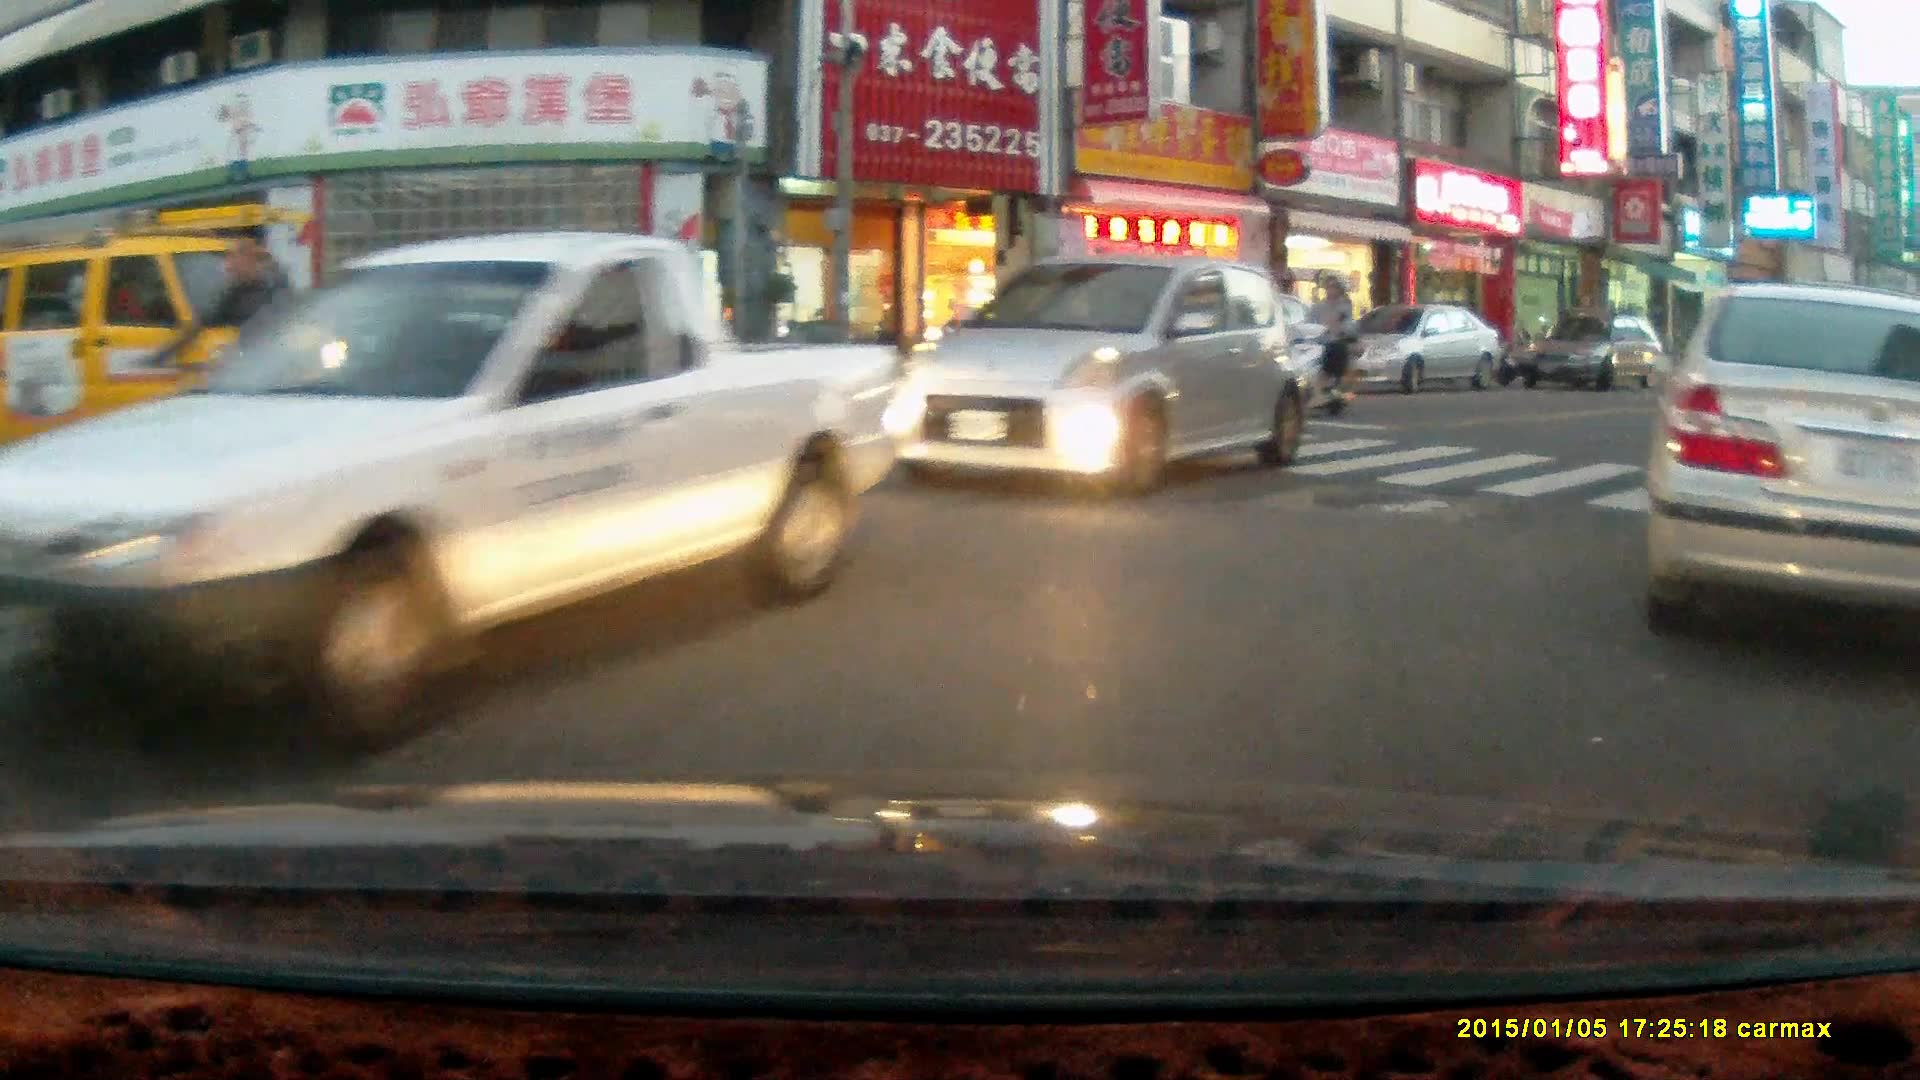rider: (120, 228, 377, 518), (1281, 265, 1359, 422)
vehicle: (21, 228, 931, 742), (875, 254, 1318, 497), (1652, 280, 1916, 667), (1, 202, 358, 488), (1343, 304, 1501, 392), (1516, 315, 1670, 390)
